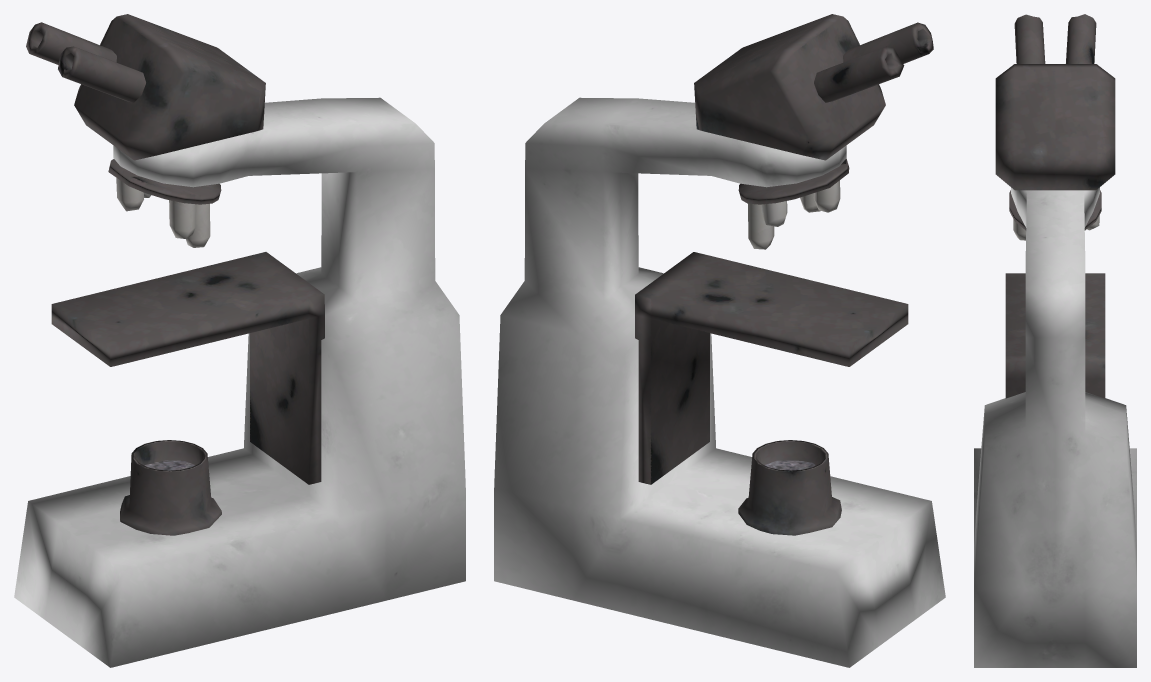
File: Microscope_Prop.glb
3 renders of one model, left to right at view 1: azimuth 30°, elevation 25°; view 2: azimuth 150°, elevation 25°; view 3: azimuth 270°, elevation 25°, orthographic. The views are drawn at different scales.
Parts seen in each view (by area): view 1: Microscope_Prop; view 2: Microscope_Prop; view 3: Microscope_Prop.
Boxes of the visible parts, left/top/right/bottom form: Microscope_Prop: left=14, top=14, right=465, bottom=667; Microscope_Prop: left=494, top=14, right=945, bottom=667; Microscope_Prop: left=974, top=14, right=1136, bottom=667.
Size of the model in its own units: 0.3432 by 0.5262 by 0.1535.
Materials: 4 (4 with a texture image).
